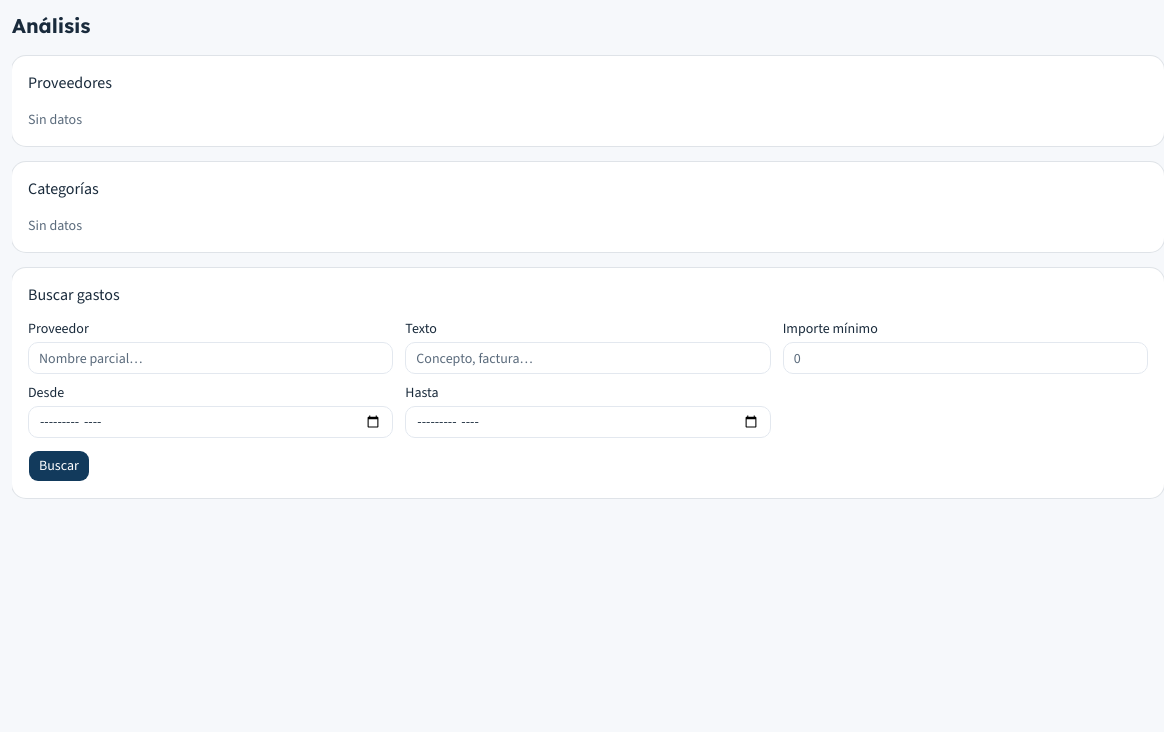
Test: el buscador de gastos consulta y muestra resultados
In the field labelled "Proveedor": (211, 358) [28,342,393,374], type "sacze"
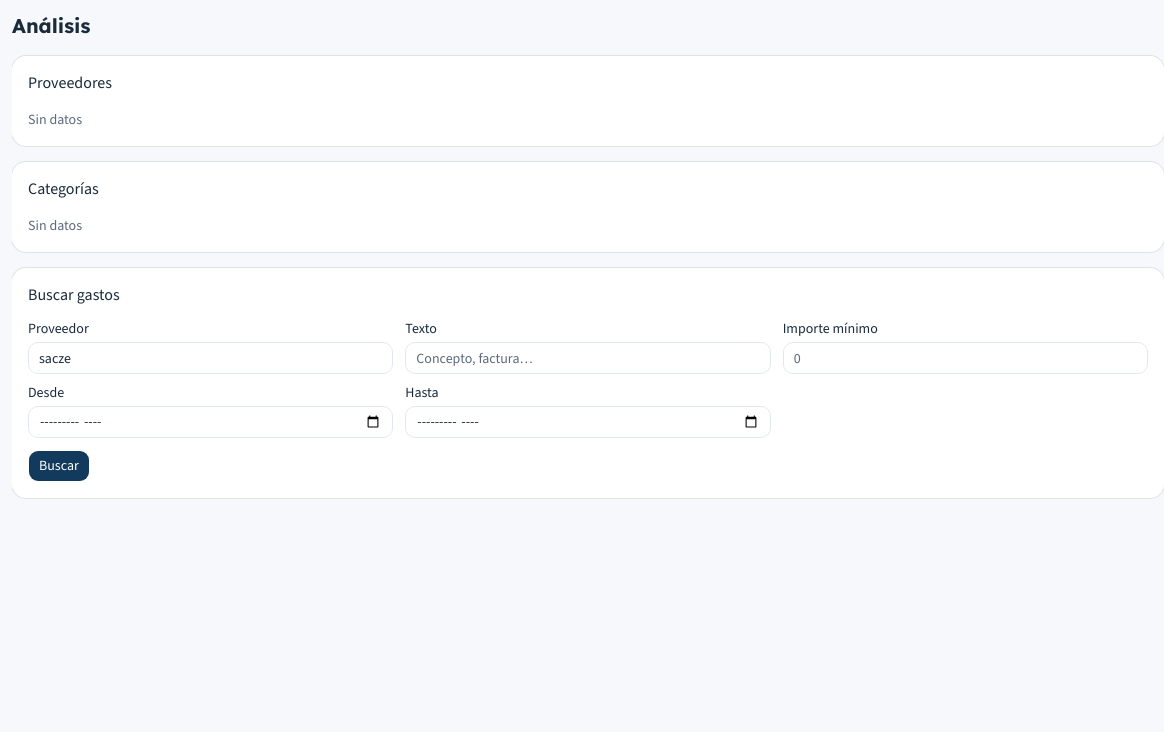
Click the button "Buscar": (59, 466) [28,450,90,482]
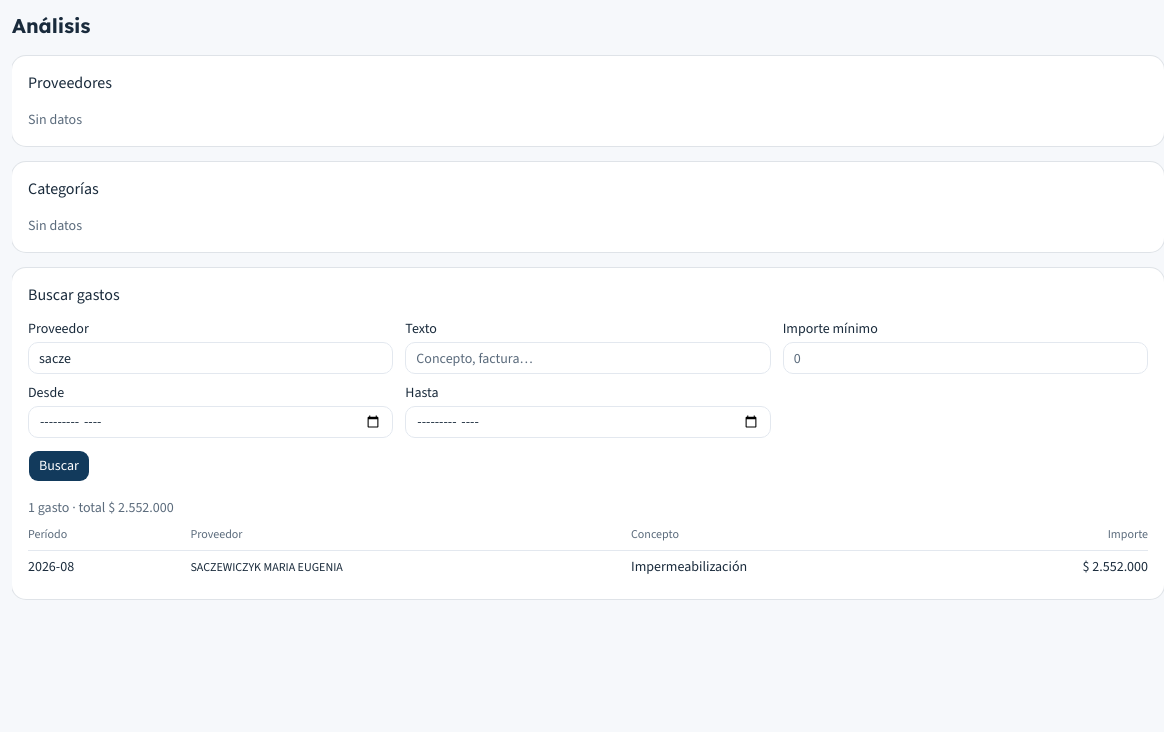
Now the text "Impermeabilización" is shown, box [631,550,977,583]
Now the text with test id "total-busqueda" shows "1 gasto", box [28,498,174,517]
